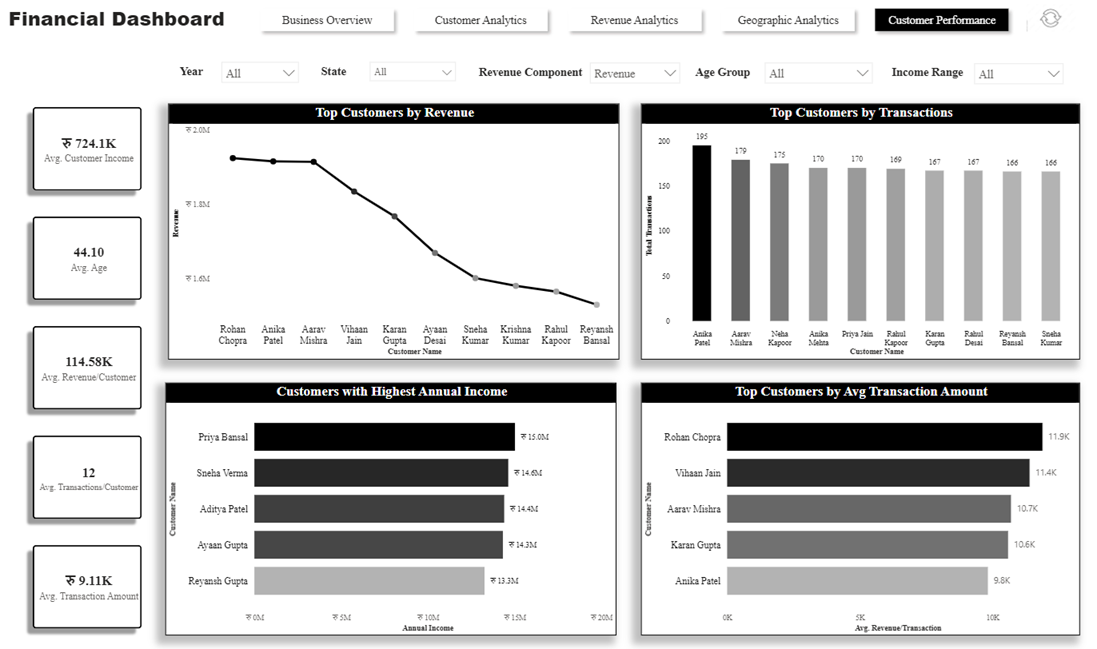

The dashboard page shown, as its layout file describes it:
{"tool":"powerbi","page":{"name":"Customer Performance","canvas":[1500,900],"ordinal":4},"visuals":[{"type":"group","id":"g1","title":"Group 1","box":[225,76.8,191.2,48.2],"z":0,"group":"g2"},{"type":"cardVisual","fields":{"Data":["customers csv.Avg. Customer Income","customers csv.Avg. Age","customers csv.Avg. Revenue/Customer","customers csv.Avg Transactions/Customer","finance_transactions csv.Average Transaction Amount"]},"box":[8.4,117.7,213,782.3],"z":0},{"type":"group","id":"g2","title":"Group 5","box":[225,76.8,1245.3,48.2],"z":1000},{"type":"group","id":"g3","title":"Group 3","box":[413.2,76.8,218.8,46.5],"z":1000,"group":"g2"},{"type":"group","id":"g4","title":"Group 2","box":[941.6,78.1,265,45],"z":2000,"group":"g2"},{"type":"lineChart","title":"Top Customers by Revenue","fields":{"Category":["customers csv.customer_name"],"Y":["finance_transactions csv.Revenue"]},"box":[225.3,143.9,622.7,353.6],"z":2000},{"type":"group","id":"g5","title":"Group 4","box":[644.5,78.1,296.7,45],"z":3000,"group":"g2"},{"type":"clusteredColumnChart","title":"Top Customers by Transactions","fields":{"Category":["customers csv.customer_name"],"Y":["finance_transactions csv.Total Transactions"]},"box":[877.2,143.9,606,353.6],"z":3000},{"type":"actionButton","box":[1408.5,0,69.2,51.7],"z":4000},{"type":"group","id":"g6","title":"Group 2","box":[1210.6,79.2,259.7,43.8],"z":4000,"group":"g2"},{"type":"textbox","box":[0,2.1,312.1,51.7],"z":5000},{"type":"pageNavigator","box":[343.1,4.1,1053,49.6],"z":6000},{"type":"slicer","fields":{"Values":["finance_transactions csv.Transaction_Year"]},"box":[288.7,76.8,126.9,47.2],"z":6000,"group":"g1"},{"type":"slicer","fields":{"Values":["customers csv.state"]},"box":[492.6,76.8,139.4,45.8],"z":7000,"group":"g3"},{"type":"clusteredBarChart","title":"Top Customers by Avg Transaction Amount","fields":{"Category":["customers csv.customer_name"],"Y":["finance_transactions csv.Avg. Revenue/Transaction"]},"box":[877.2,528.8,606,349.4],"z":7000},{"type":"slicer","fields":{"Values":["Revenue Component.Revenue Components"]},"box":[796.7,78.1,144.6,45],"z":8000,"group":"g5"},{"type":"clusteredBarChart","title":"Customers with Highest Annual Income","fields":{"Category":["customers csv.customer_name"],"Y":["Sum(customers csv.annual_income)"]},"box":[221.1,528.8,622.7,349.4],"z":8000},{"type":"slicer","fields":{"Values":["customers csv.age_group"]},"box":[1037.8,78.1,168.9,44.7],"z":9000,"group":"g4"},{"type":"slicer","fields":{"Values":["customers csv.income_range"]},"box":[1326.5,79.2,143.8,44.8],"z":9000,"group":"g6"},{"type":"textbox","box":[225,85.2,63.7,30.8],"z":10000,"group":"g1"},{"type":"textbox","box":[941.6,86,96.4,30],"z":10000,"group":"g4"},{"type":"textbox","box":[1210.6,86.1,123.3,31],"z":10000,"group":"g6"},{"type":"textbox","box":[413.2,84.6,79.3,29.7],"z":10002,"group":"g3"},{"type":"textbox","box":[644.5,86.7,160,30],"z":10002,"group":"g5"}]}

Visuals, with their boxes in screenshot pixels (x1, y1, x2, y2), scaled from the page's 1500x900 canvas onto the 1097x649 screenshot:
"Group 1" group: bbox(165, 55, 304, 90)
cardVisual - customers csv.Avg. Customer Income x customers csv.Avg. Age: bbox(6, 85, 162, 648)
"Group 5" group: bbox(165, 55, 1075, 90)
"Group 3" group: bbox(302, 55, 462, 89)
"Group 2" group: bbox(689, 56, 882, 89)
"Top Customers by Revenue" lineChart: bbox(165, 104, 620, 359)
"Group 4" group: bbox(471, 56, 688, 89)
"Top Customers by Transactions" clusteredColumnChart: bbox(642, 104, 1085, 359)
actionButton: bbox(1030, 0, 1081, 37)
"Group 2" group: bbox(885, 57, 1075, 89)
textbox: bbox(0, 2, 228, 39)
pageNavigator: bbox(251, 3, 1021, 39)
slicer - finance_transactions csv.Transaction_Year: bbox(211, 55, 304, 89)
slicer - customers csv.state: bbox(360, 55, 462, 88)
"Top Customers by Avg Transaction Amount" clusteredBarChart: bbox(642, 381, 1085, 633)
slicer - Revenue Component.Revenue Components: bbox(583, 56, 688, 89)
"Customers with Highest Annual Income" clusteredBarChart: bbox(162, 381, 617, 633)
slicer - customers csv.age_group: bbox(759, 56, 882, 89)
slicer - customers csv.income_range: bbox(970, 57, 1075, 89)
textbox: bbox(165, 61, 211, 84)
textbox: bbox(689, 62, 759, 84)
textbox: bbox(885, 62, 976, 84)
textbox: bbox(302, 61, 360, 82)
textbox: bbox(471, 63, 588, 84)
